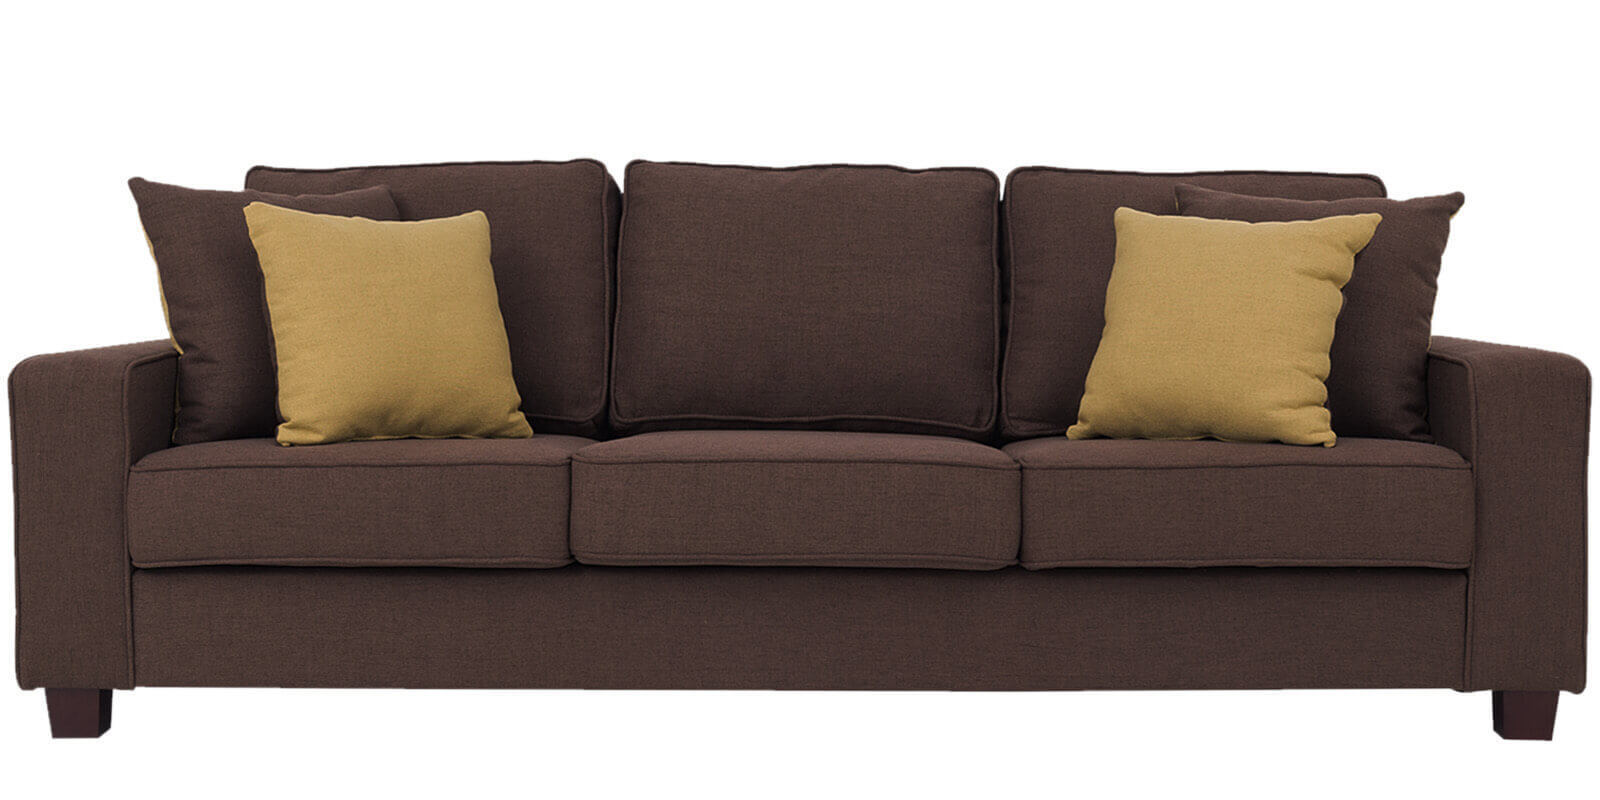Castilla Three Seater Sofa in Brown Colour by CasaCraft: (9, 136, 1594, 774)
